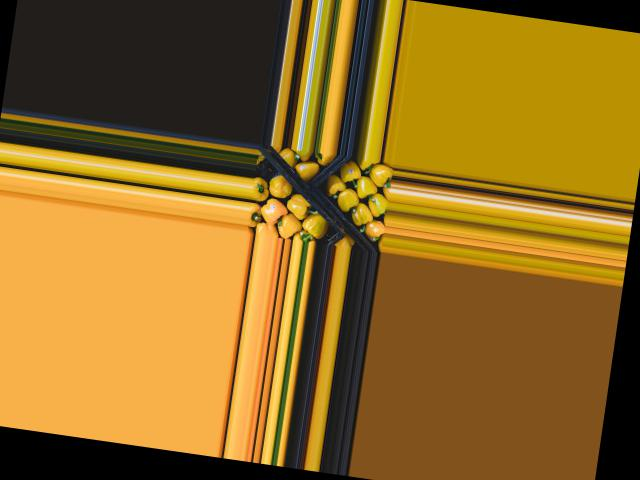bell_pepper: (363, 158, 393, 185)
